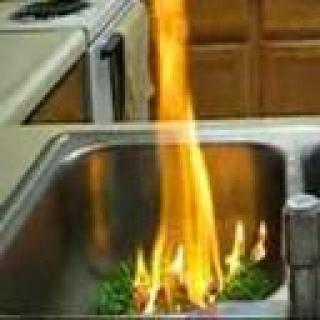fire: (132, 0, 223, 311), (221, 220, 268, 271)
